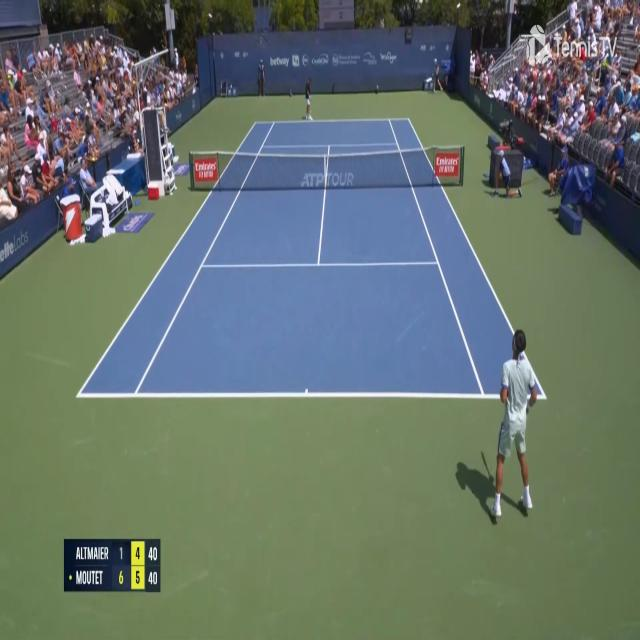tennis-player: (488, 326, 549, 524), (303, 74, 314, 123)
